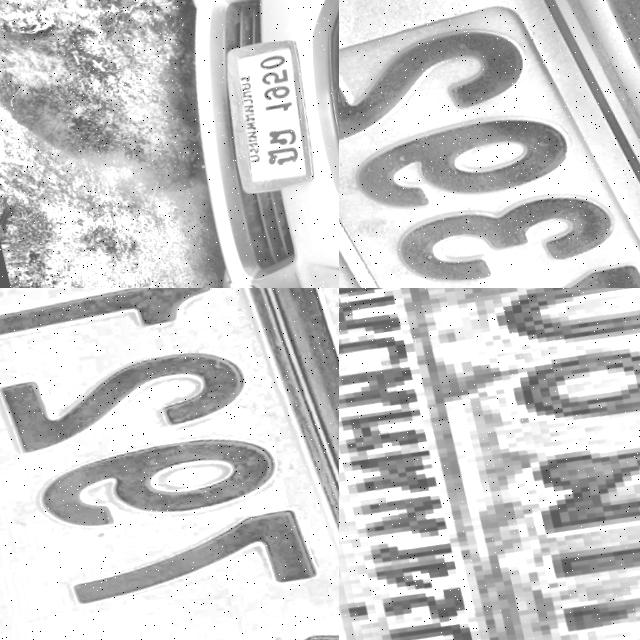license-plate: (0, 288, 339, 640), (339, 288, 640, 640), (339, 0, 640, 288), (203, 21, 332, 199)
